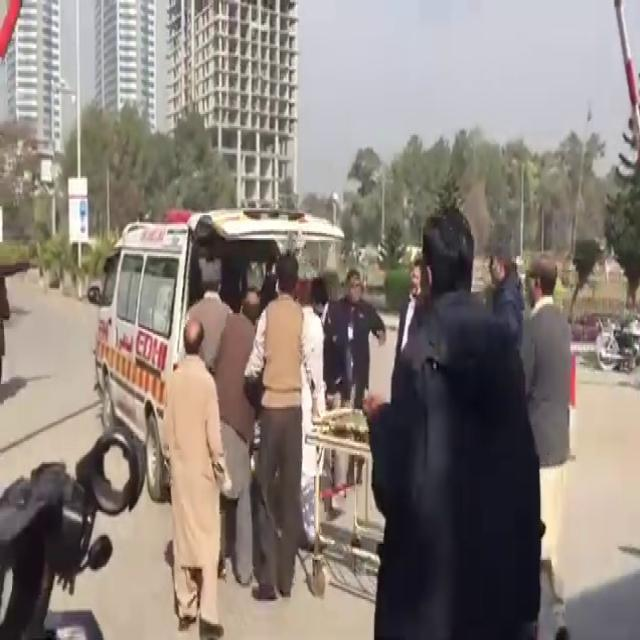ambulance: (96, 220, 288, 521), (289, 517, 289, 520)
